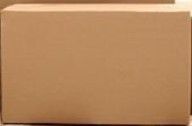stock: (1, 4, 192, 125)
